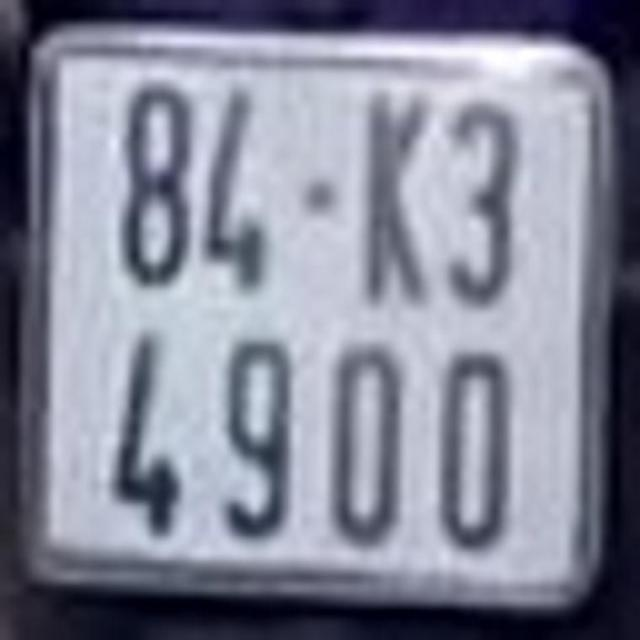0: (332, 340, 407, 552), (433, 350, 514, 546)
3: (441, 90, 522, 320)
4: (200, 66, 279, 309), (105, 330, 186, 536)
8: (124, 74, 194, 304)
9: (217, 340, 298, 540)
K: (358, 75, 432, 320)
